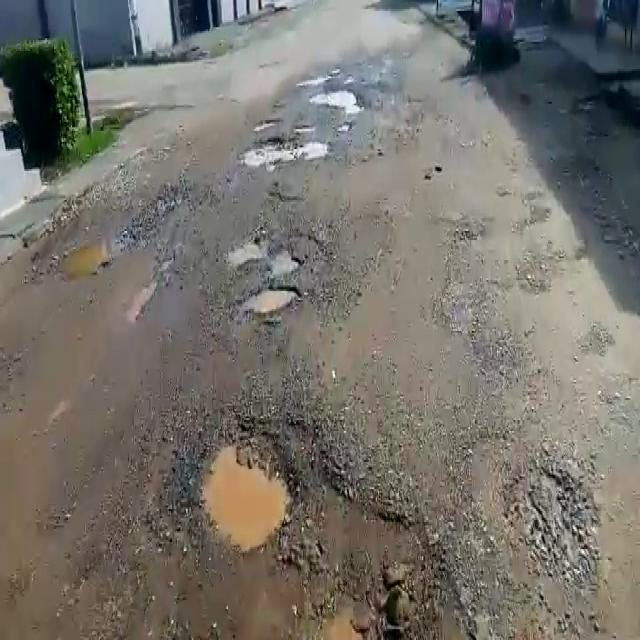Pothole: (198, 428, 294, 550), (222, 232, 302, 274), (239, 131, 327, 168), (58, 239, 109, 282), (237, 283, 298, 318), (305, 85, 365, 110)
